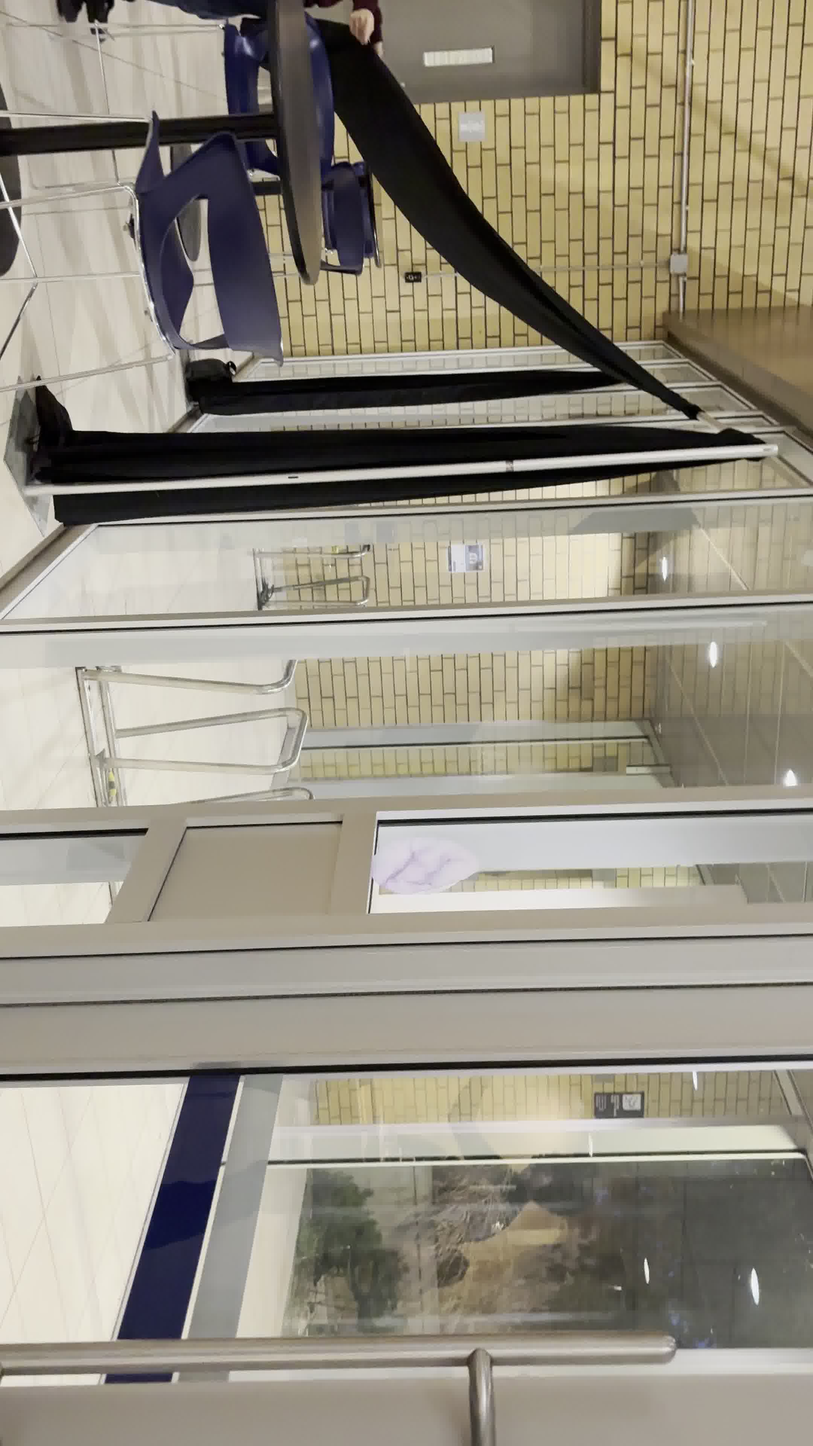Target: (370, 834, 482, 897)
